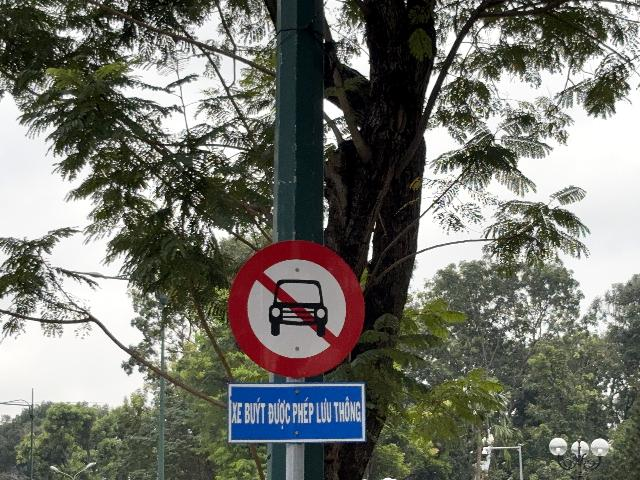cam-o-to: (229, 240, 366, 378)
